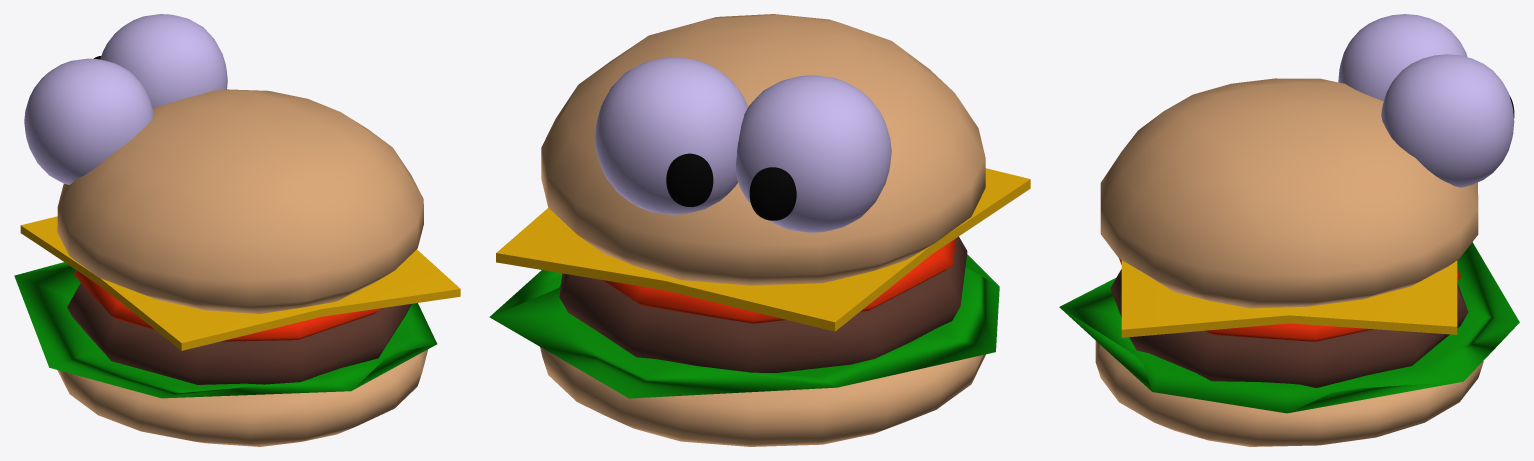
The model's file is burger-geo.fbx.
3 views of the same model, side by side, from view 1: azimuth 30°, elevation 25°; view 2: azimuth 150°, elevation 25°; view 3: azimuth 270°, elevation 25° (orthographic). The views are drawn at different scales.
Visible parts, largest first — view 1: bunBottom, pCube1 (×2), bunTop, patty, lettuce, cheese, tomato; view 2: bunBottom, pCube1 (×2), patty, bunTop, lettuce, cheese, pCube2 (×2), tomato; view 3: bunBottom, pCube1 (×2), lettuce, bunTop, patty, cheese, tomato.
Boxes of the visible parts, x1=… form: bunBottom: x1=57, y1=89, x2=423, y2=313; pCube1 (×2): x1=24, y1=14, x2=227, y2=184; bunTop: x1=57, y1=349, x2=427, y2=446; patty: x1=67, y1=283, x2=411, y2=384; lettuce: x1=14, y1=262, x2=437, y2=398; cheese: x1=20, y1=216, x2=460, y2=350; tomato: x1=74, y1=270, x2=380, y2=341; bunBottom: x1=541, y1=14, x2=985, y2=285; pCube1 (×2): x1=595, y1=57, x2=891, y2=232; patty: x1=559, y1=236, x2=967, y2=372; bunTop: x1=540, y1=347, x2=985, y2=446; lettuce: x1=489, y1=254, x2=999, y2=398; cheese: x1=496, y1=168, x2=1030, y2=331; pCube2 (×2): x1=666, y1=153, x2=796, y2=220; tomato: x1=603, y1=238, x2=955, y2=323; bunBottom: x1=1100, y1=78, x2=1478, y2=308; pCube1 (×2): x1=1338, y1=14, x2=1514, y2=187; lettuce: x1=1059, y1=242, x2=1519, y2=413; bunTop: x1=1095, y1=341, x2=1483, y2=446; patty: x1=1110, y1=269, x2=1468, y2=387; cheese: x1=1121, y1=260, x2=1457, y2=337; tomato: x1=1119, y1=258, x2=1461, y2=341.
Bounding box in the file's own units: 1.33 × 1.08 × 1.41.
